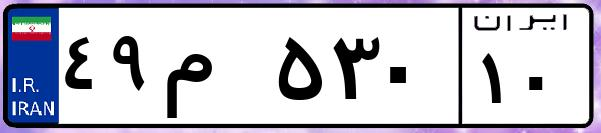0: (385, 28, 445, 110), (525, 38, 570, 115)
1: (475, 38, 525, 113)
3: (330, 28, 385, 110)
4: (57, 26, 110, 100)
5: (270, 28, 330, 110)
9: (110, 28, 158, 98)
م: (158, 20, 270, 120)
